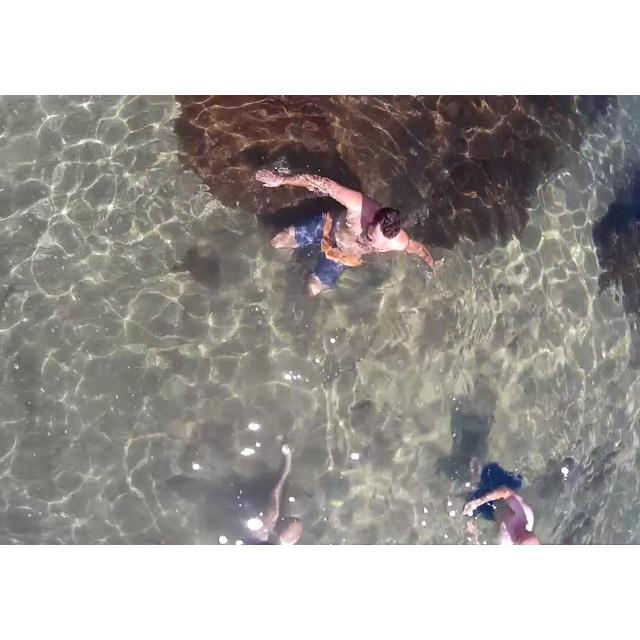human: (259, 138, 435, 330)
